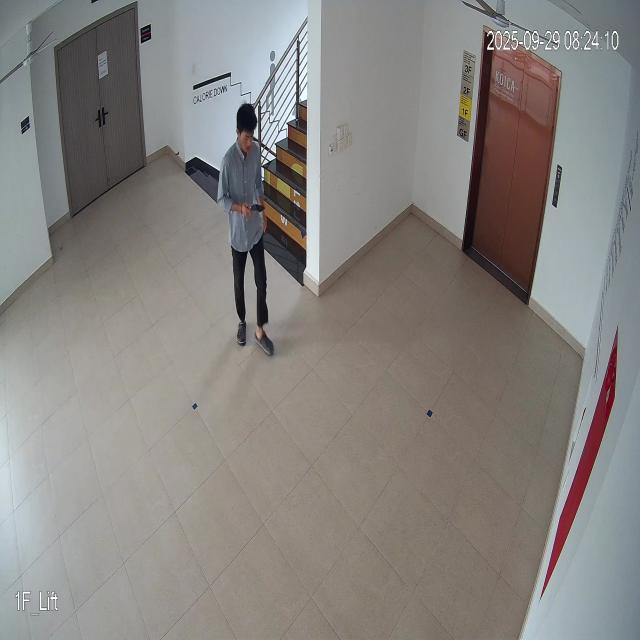face: (233, 98, 260, 157)
